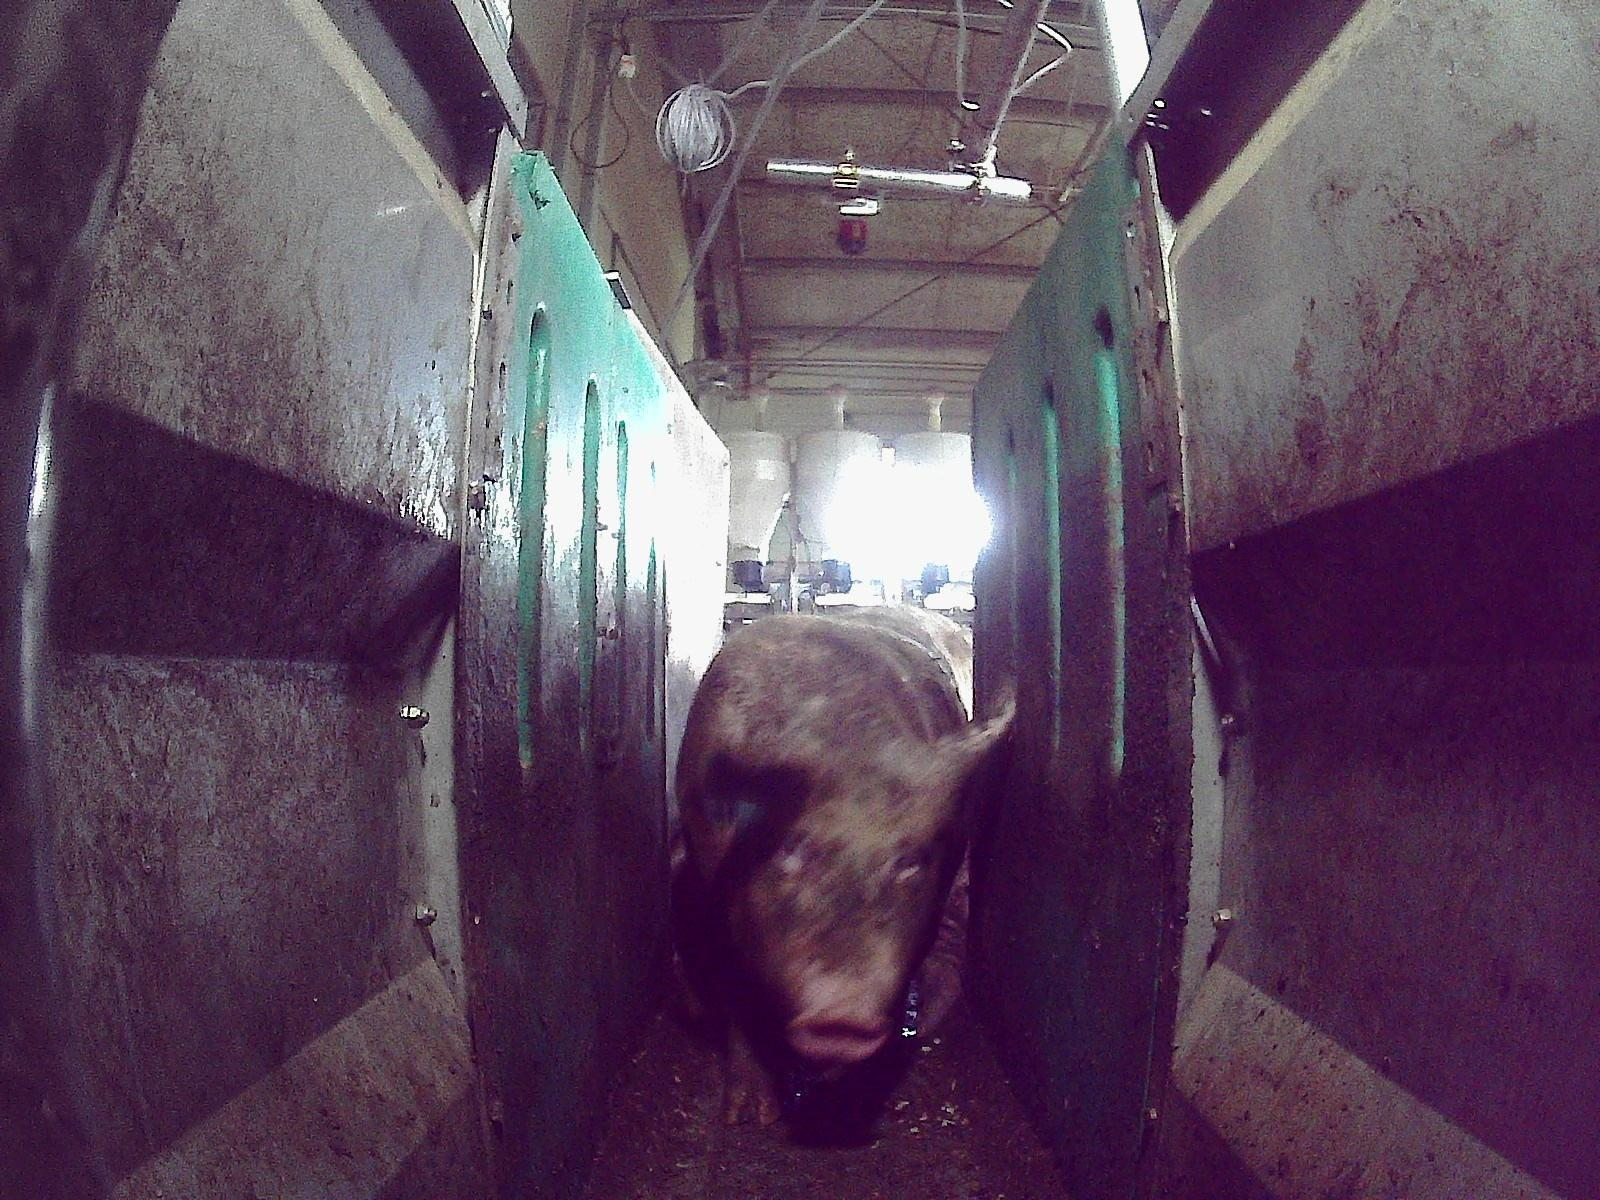Face: (739, 767, 938, 1060)
